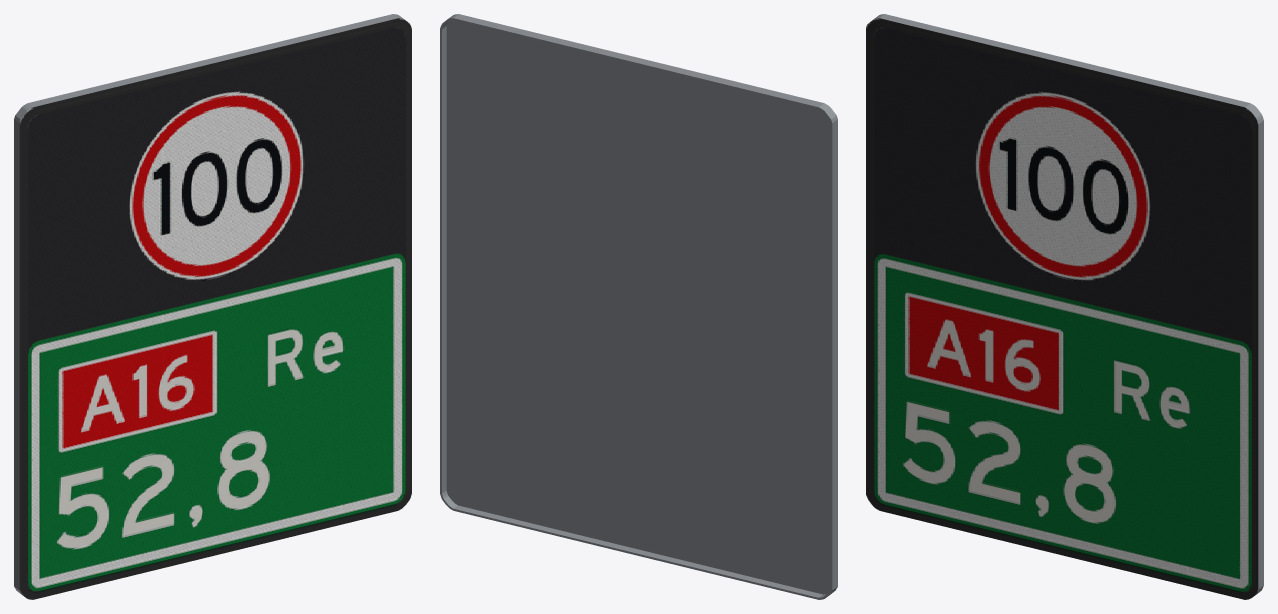
3 renders of one model, left to right at view 1: azimuth 30°, elevation 25°; view 2: azimuth 150°, elevation 25°; view 3: azimuth 330°, elevation 25°, orthographic.
Visible parts, largest first — view 1: cat_4b006bdb2d03f196; view 2: cat_4b006bdb2d03f196; view 3: cat_4b006bdb2d03f196.
Boxes of the visible parts, bbox=[...] form: cat_4b006bdb2d03f196: bbox=[14, 14, 411, 599]; cat_4b006bdb2d03f196: bbox=[440, 14, 837, 599]; cat_4b006bdb2d03f196: bbox=[866, 14, 1263, 599].
Size of the model in its own units: 0.6 by 0.015 by 0.72.
2 materials, 1 textured.
